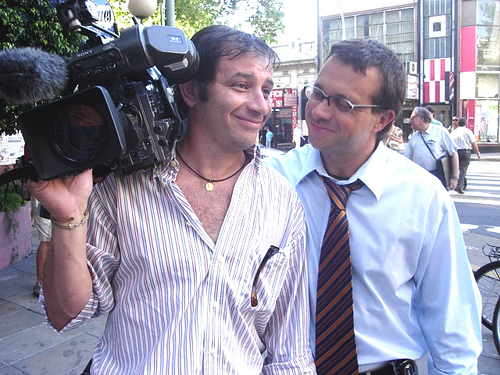without_mask: (301, 47, 394, 158), (187, 31, 275, 148), (406, 106, 436, 135), (449, 115, 459, 126)
